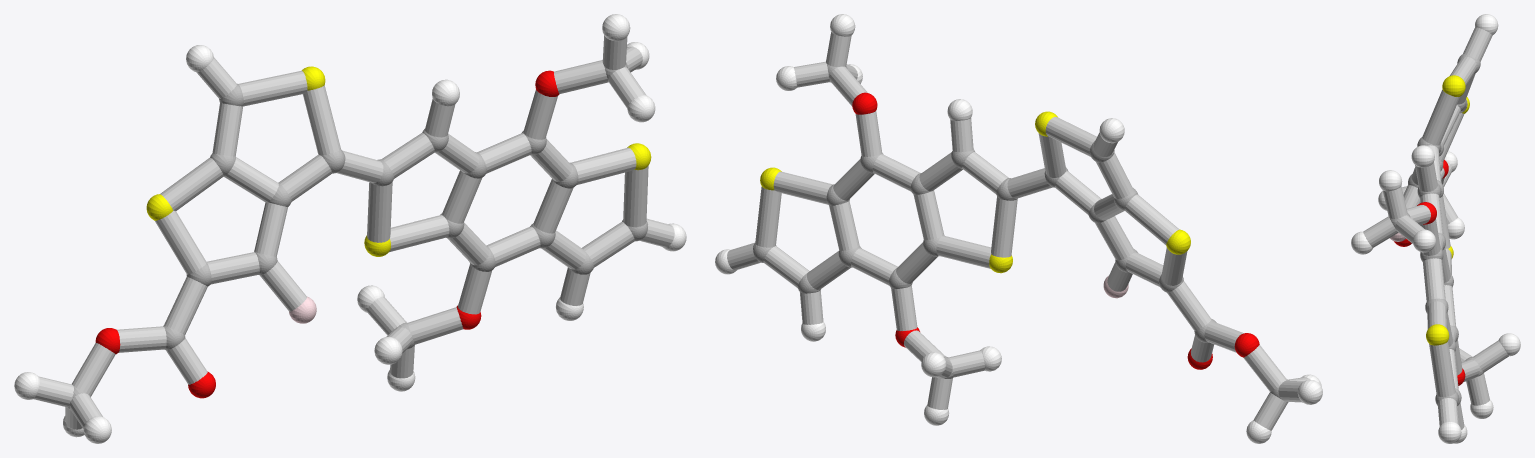
File: color.glb
3 views of the same model, side by side, from view 1: azimuth 30°, elevation 25°; view 2: azimuth 150°, elevation 25°; view 3: azimuth 270°, elevation 25° (orthographic). The views are drawn at different scales.
Visible parts, largest first — view 1: grp15205, grp8689, grp1, grp13395, grp7241; view 2: grp15205, grp8689, grp1, grp7241, grp13395; view 3: grp15205, grp8689, grp1, grp7241, grp13395.
Part boxes in pixels (x1,y1,x2,y2): grp15205: (33, 35, 674, 429); grp8689: (14, 14, 686, 443); grp1: (67, 62, 647, 410); grp13395: (95, 70, 559, 398); grp7241: (146, 66, 651, 256); grp15205: (727, 32, 1309, 430); grp8689: (715, 14, 1322, 443); grp1: (753, 64, 1289, 402); grp7241: (760, 111, 1190, 273); grp13395: (852, 92, 1259, 369); grp15205: (1363, 27, 1508, 429); grp8689: (1351, 14, 1520, 443); grp1: (1390, 54, 1483, 405); grp7241: (1426, 75, 1469, 345); grp13395: (1394, 160, 1465, 385).
Size of the model in its own units: 16.5 by 9.18 by 4.37.
